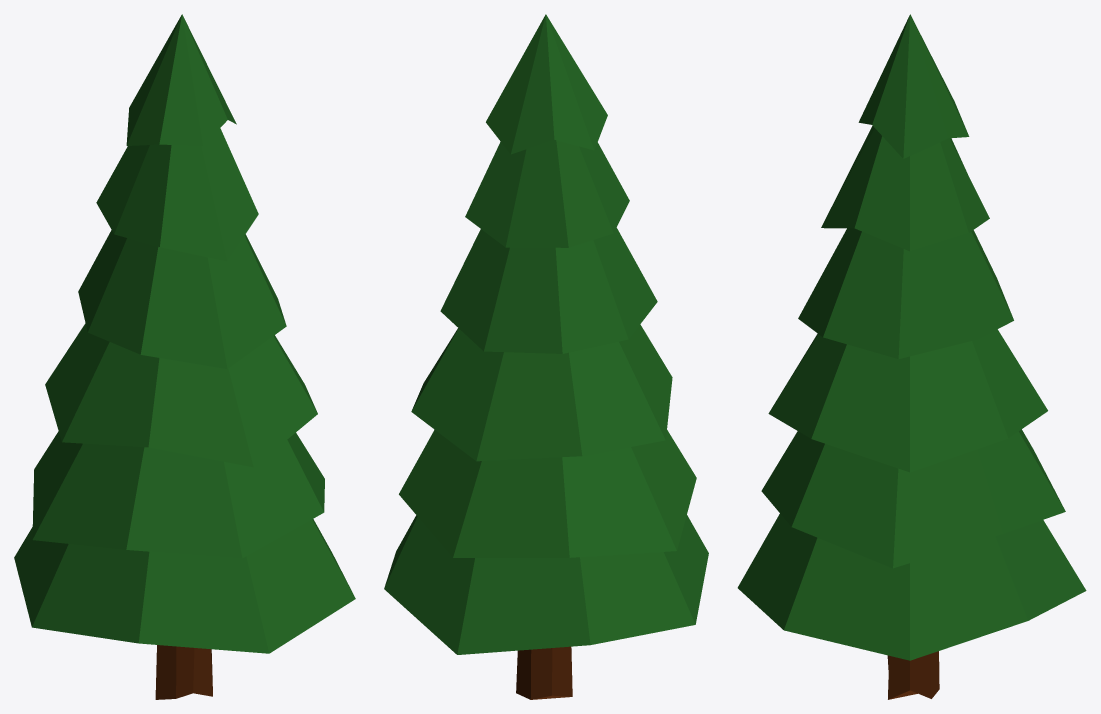
Rendered from tree.fbx.
3 renders of one model, left to right at view 1: azimuth 30°, elevation 25°; view 2: azimuth 150°, elevation 25°; view 3: azimuth 270°, elevation 25°, orthographic.
Parts seen in each view (by area): view 1: Tree1; view 2: Tree1; view 3: Tree1.
Boxes of the visible parts, x1,y1,x2,y2 form: Tree1: (14, 14, 355, 699); Tree1: (384, 14, 708, 699); Tree1: (737, 14, 1086, 699).
Bounding box in the file's own units: 180 × 388 × 182.
